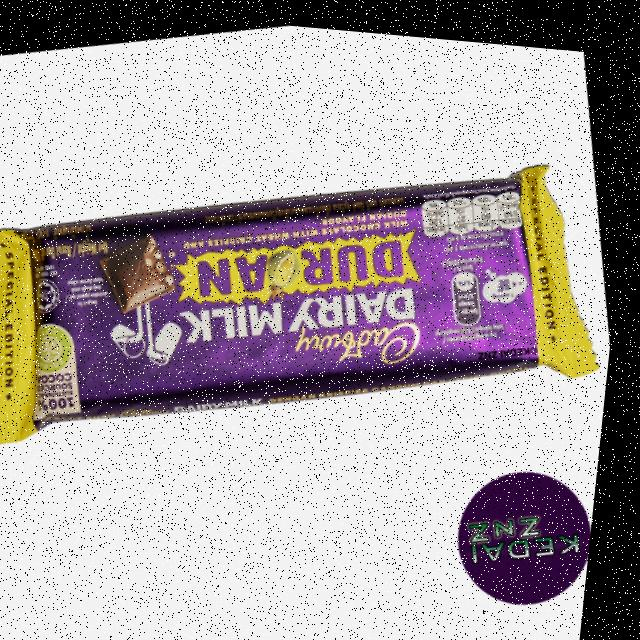cadbury: (0, 82, 633, 507)
